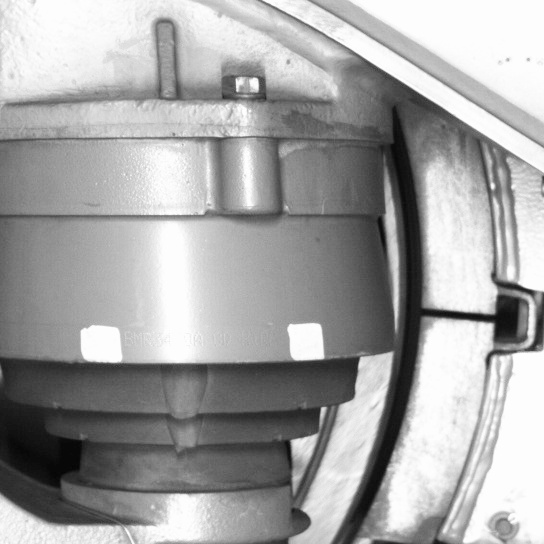KnifeSwitch: (325, 142, 517, 544)
